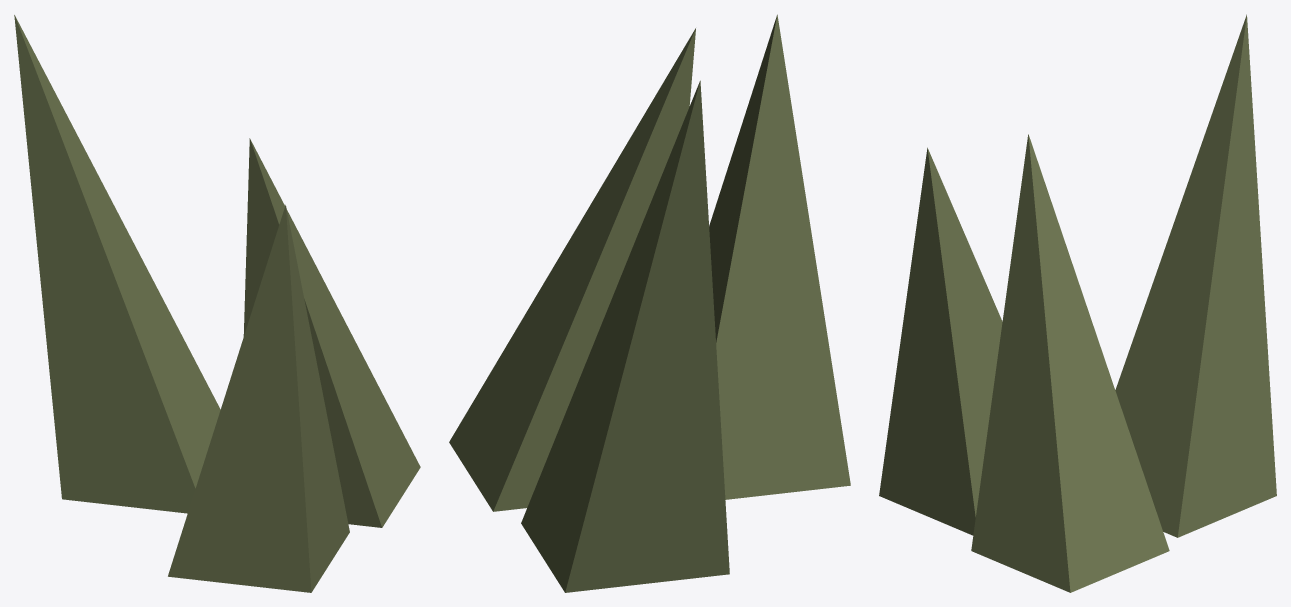
File: grass2.fbx
3 views of the same model, side by side, from view 1: azimuth 30°, elevation 25°; view 2: azimuth 150°, elevation 25°; view 3: azimuth 270°, elevation 25° (orthographic). The views are drawn at different scales.
Visible parts, largest first — view 1: Cone.003; view 2: Cone.003; view 3: Cone.003.
Boxes of the visible parts, bbox=[...] form: Cone.003: bbox=[14, 15, 420, 592]; Cone.003: bbox=[449, 14, 850, 592]; Cone.003: bbox=[879, 14, 1276, 592].
Size of the model in its own units: 17.5 by 24.64 by 20.43.
